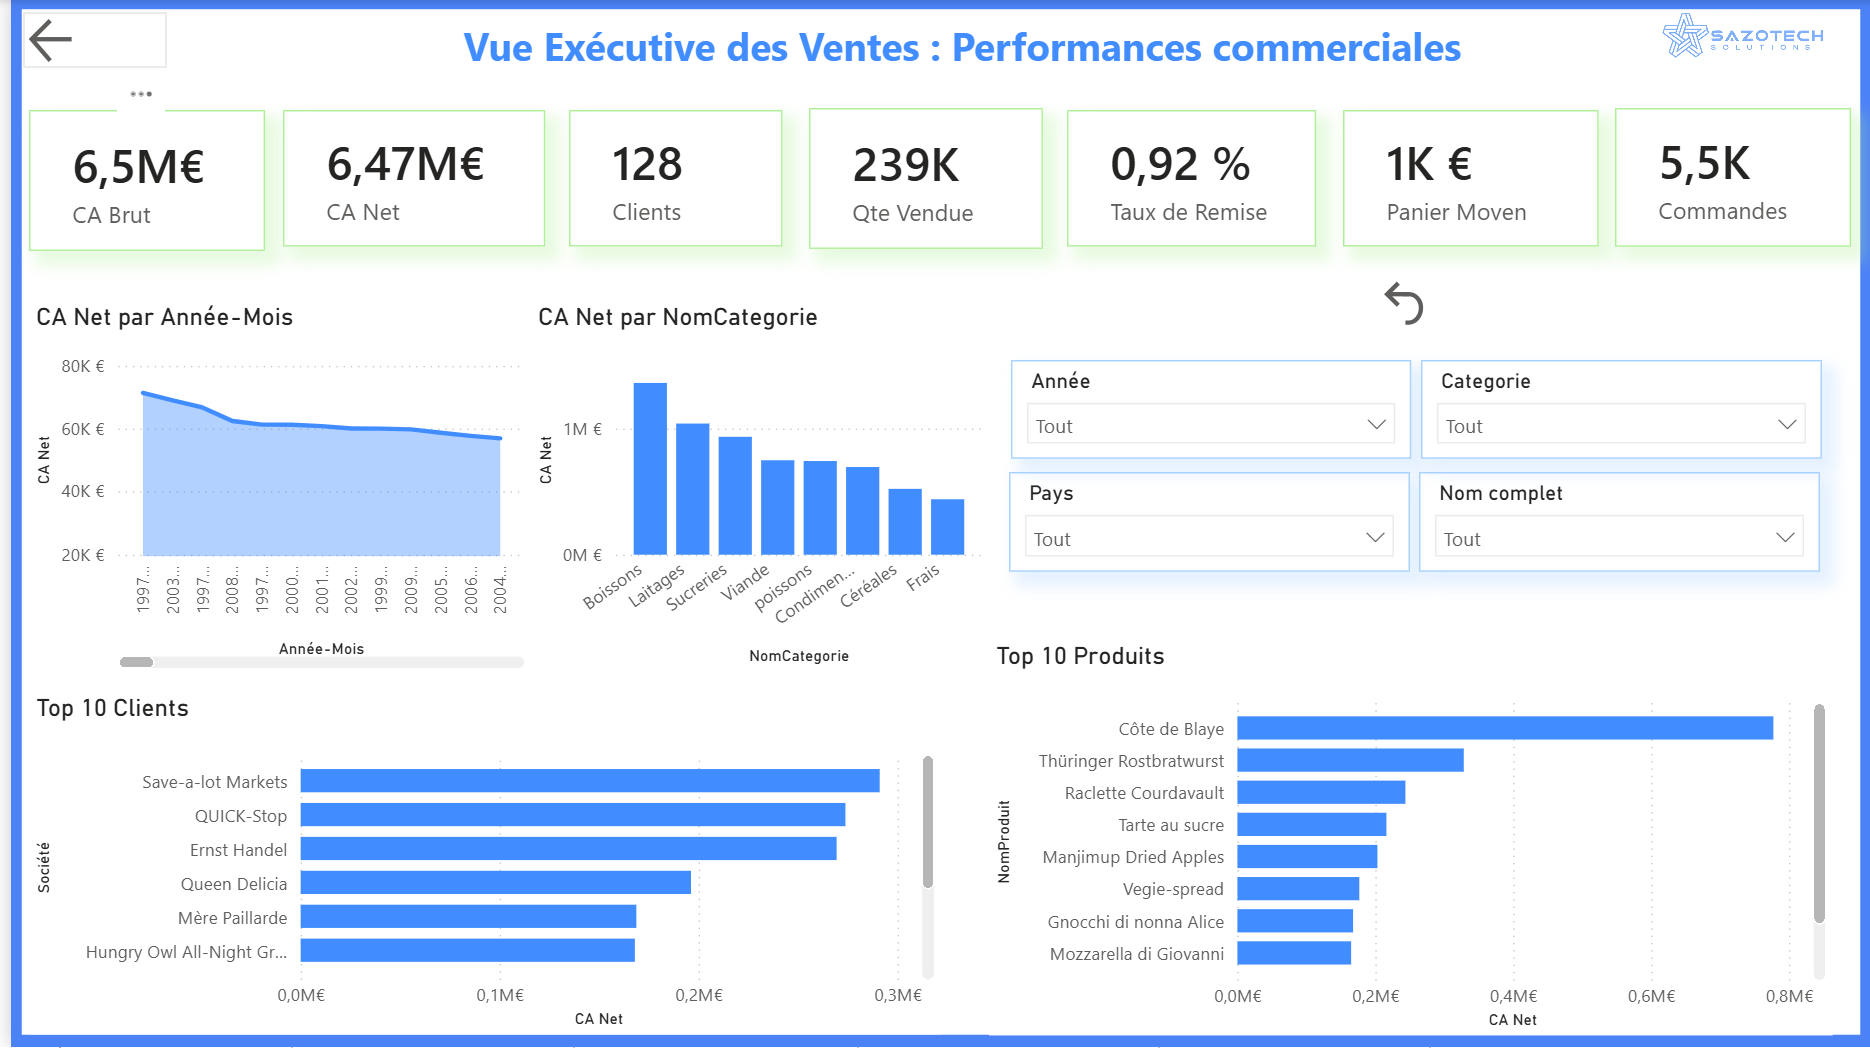

This screenshot's page, from the dashboard's own definition file:
{"tool":"powerbi","page":{"name":"Vue Exécutive","canvas":[1280,720],"ordinal":2},"visuals":[{"type":"cardVisual","fields":{"Data":["_Mesures.CA Brut"]},"box":[12.1,75.8,162.3,97.1],"z":0},{"type":"cardVisual","fields":{"Data":["_Mesures.CA Total"]},"box":[186.5,75.8,180.5,94],"z":1000},{"type":"cardVisual","fields":{"Data":["_Mesures.Nombre Clients"]},"box":[383.7,75.8,147.1,94],"z":2000},{"type":"cardVisual","fields":{"Data":["_Mesures.Nombre Commandes Employé"]},"box":[1104.1,74.3,162.3,95.5],"z":3000},{"type":"cardVisual","fields":{"Data":["_Mesures.Panier Moyen"]},"box":[917.5,75.8,175.9,94],"z":4000},{"type":"cardVisual","fields":{"Data":["_Mesures.Quantité Vendue"]},"box":[549,74.3,160.8,97.1],"z":5000},{"type":"cardVisual","fields":{"Data":["_Mesures.Taux de Remise"]},"box":[726.4,75.8,171.4,94],"z":6000},{"type":"areaChart","fields":{"Category":["Calendrier.Année-Mois"],"Y":["_Mesures.CA Net"]},"box":[12.1,207.8,345.8,256.3],"z":7000},{"type":"columnChart","fields":{"Category":["Categorie.NomCategorie"],"Y":["_Mesures.CA Net"]},"box":[357.9,207.8,315.5,253.3],"z":8000},{"type":"clusteredBarChart","title":"Top 10 Produits","fields":{"Category":["Produit.NomProduit"],"Y":["_Mesures.CA Net"]},"box":[672.9,440,580.7,271.3],"z":9000},{"type":"clusteredBarChart","title":"Top 10 Clients","fields":{"Category":["Client.Société"],"Y":["_Mesures.CA Net"]},"box":[12.1,476.2,627.9,235.1],"z":10000},{"type":"slicer","fields":{"Values":["Fournisseur.Pays"]},"box":[687,324.5,276,68.2],"z":11000},{"type":"slicer","fields":{"Values":["Calendrier.Année"]},"box":[688.5,247.2,275.5,67.8],"z":12000},{"type":"slicer","fields":{"Values":["Employe.Nom complet"]},"box":[969.1,324.5,276,68.2],"z":13000},{"type":"slicer","fields":{"Values":["Categorie.NomCategorie"]},"box":[970.6,247.2,276,68.2],"z":14000},{"type":"textbox","box":[188.1,7.6,932.7,59.1],"z":15000},{"type":"image","box":[1108.1,8.1,170.3,32.4],"z":16000},{"type":"actionButton","box":[938.8,188.1,48.3,40],"z":17000},{"type":"actionButton","box":[7.6,7.6,100.1,39.4],"z":18000}]}

Visuals, with their boxes in screenshot pixels (x1, y1, x2, y2), scaled from the page's 1280x720 canvas onto the 1870x1048 screenshot:
cardVisual - _Mesures.CA Brut: region(18, 110, 255, 252)
cardVisual - _Mesures.CA Total: region(272, 110, 536, 247)
cardVisual - _Mesures.Nombre Clients: region(561, 110, 775, 247)
cardVisual - _Mesures.Nombre Commandes Employé: region(1613, 108, 1850, 247)
cardVisual - _Mesures.Panier Moyen: region(1340, 110, 1597, 247)
cardVisual - _Mesures.Quantité Vendue: region(802, 108, 1037, 249)
cardVisual - _Mesures.Taux de Remise: region(1061, 110, 1312, 247)
areaChart - Calendrier.Année-Mois x _Mesures.CA Net: region(18, 302, 523, 676)
columnChart - Categorie.NomCategorie x _Mesures.CA Net: region(523, 302, 984, 671)
"Top 10 Produits" clusteredBarChart: region(983, 640, 1831, 1035)
"Top 10 Clients" clusteredBarChart: region(18, 693, 935, 1035)
slicer - Fournisseur.Pays: region(1004, 472, 1407, 572)
slicer - Calendrier.Année: region(1006, 360, 1408, 458)
slicer - Employe.Nom complet: region(1416, 472, 1819, 572)
slicer - Categorie.NomCategorie: region(1418, 360, 1821, 459)
textbox: region(275, 11, 1637, 97)
image: region(1619, 12, 1868, 59)
actionButton: region(1372, 274, 1442, 332)
actionButton: region(11, 11, 157, 68)
